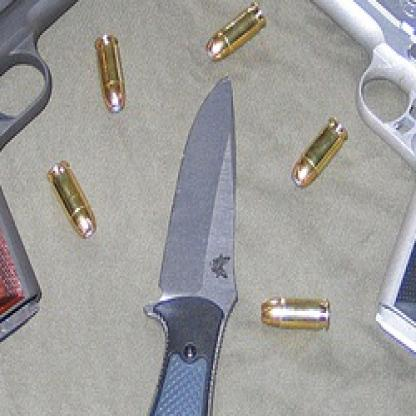gun: (236, 0, 415, 396), (0, 0, 165, 379)
